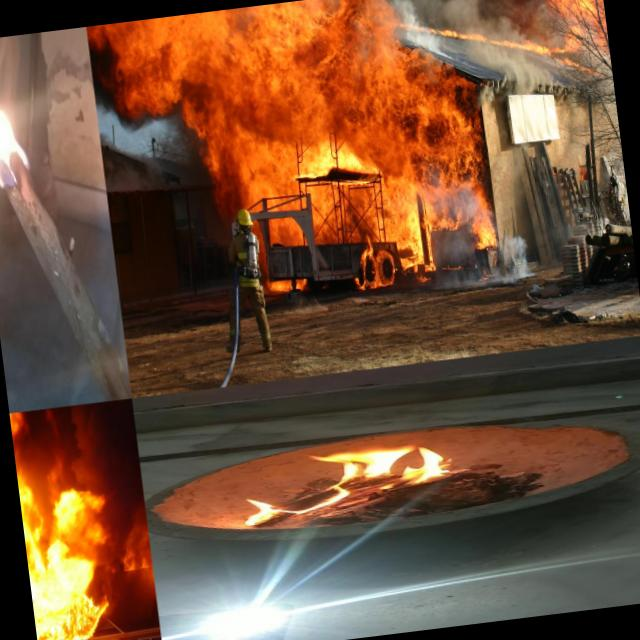fire: (183, 0, 490, 258), (15, 451, 160, 640), (228, 434, 457, 524), (86, 15, 194, 142), (0, 64, 49, 194), (527, 0, 610, 65), (452, 23, 538, 67), (346, 236, 401, 292), (10, 410, 34, 444)
smoke: (424, 224, 533, 300), (42, 399, 124, 464), (476, 46, 556, 100), (396, 0, 530, 31)
